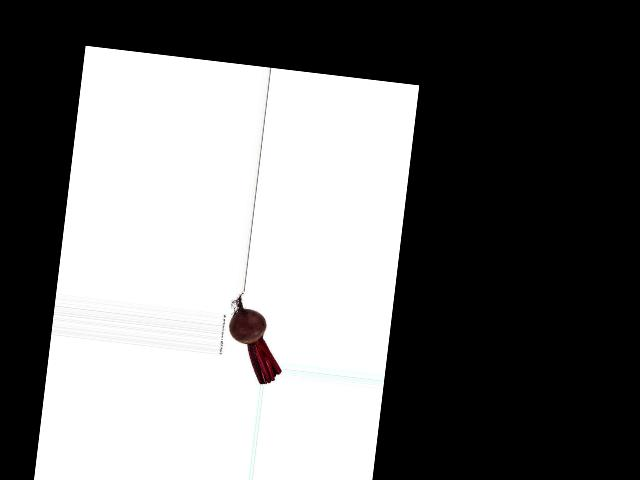beet: (222, 291, 289, 386)
